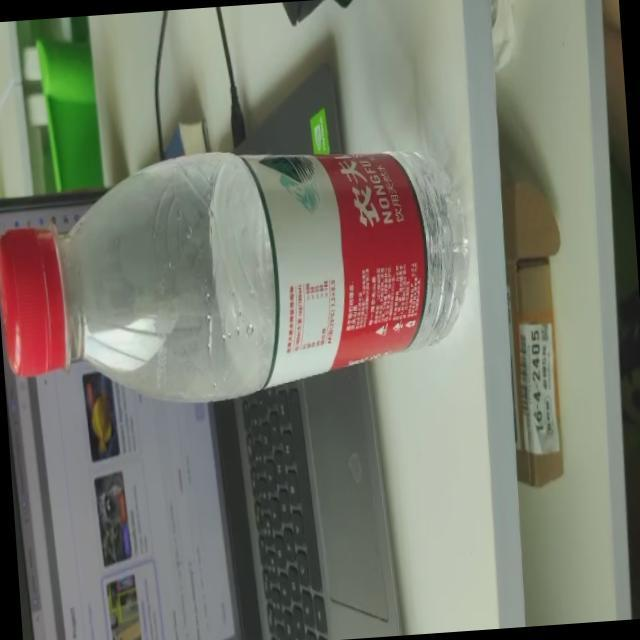good: (0, 130, 474, 412)
